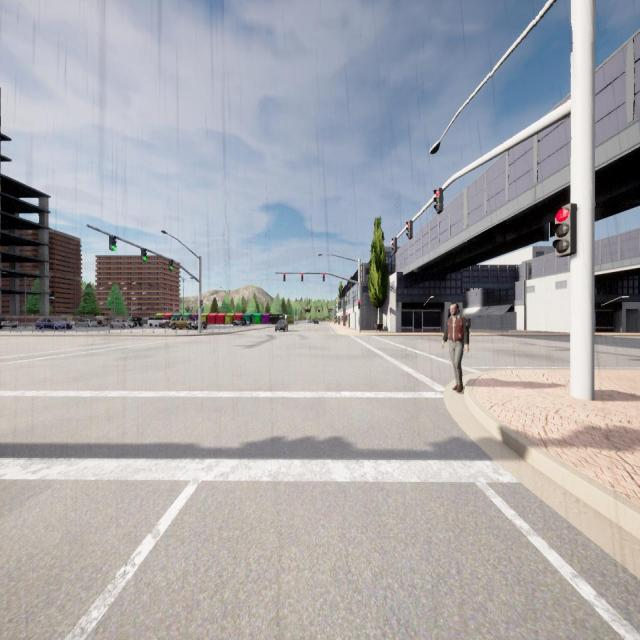Pedestrian: (441, 303, 469, 392)
Vehicle: (35, 316, 72, 330), (171, 316, 192, 330), (110, 318, 134, 328), (74, 318, 98, 328), (147, 317, 170, 327), (0, 316, 17, 329), (275, 319, 288, 332), (191, 320, 207, 330), (232, 318, 246, 326), (132, 317, 142, 327), (98, 317, 107, 327), (159, 321, 171, 328), (246, 320, 250, 326), (307, 320, 312, 324), (314, 320, 319, 324)
traffic_light: (552, 202, 577, 258), (434, 188, 443, 213), (406, 220, 412, 240), (109, 235, 116, 251), (141, 248, 147, 261), (392, 237, 396, 254), (169, 259, 173, 270), (283, 273, 286, 281), (200, 300, 203, 308), (301, 272, 303, 282), (322, 272, 324, 282), (358, 300, 360, 309)
